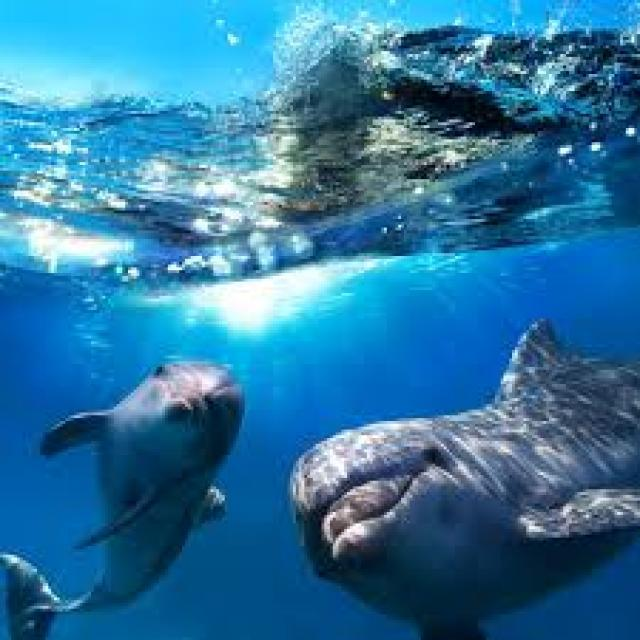dolphin: (287, 333, 640, 640), (0, 361, 247, 640)
